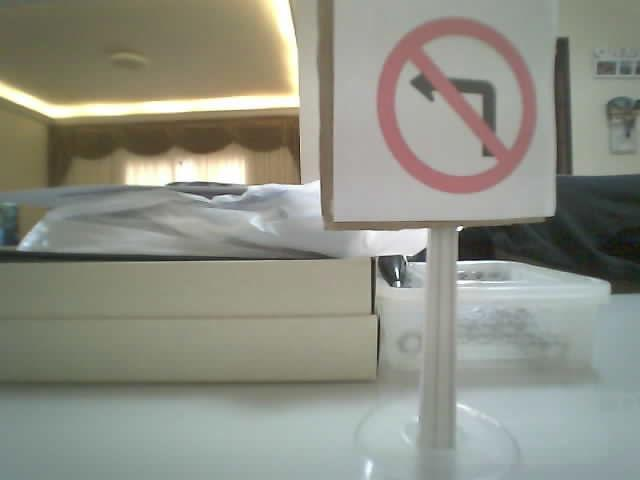R-4a_proibido-esquerda: (376, 17, 535, 194)
